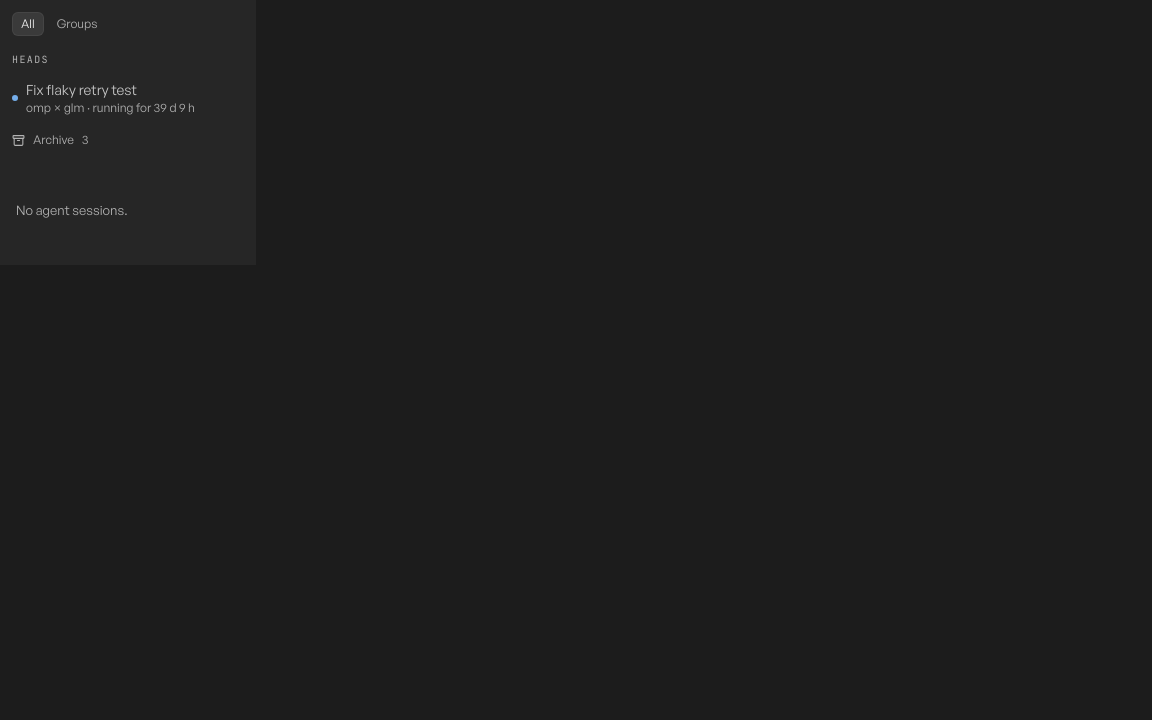
Test case: SessionSidebar — Heads-Sektion › shows an Archive row with the count only when archivedCount > 0, opens the sheet
Click the button with test id "heads-archive-button" at (128, 140), box [0,124,256,156]
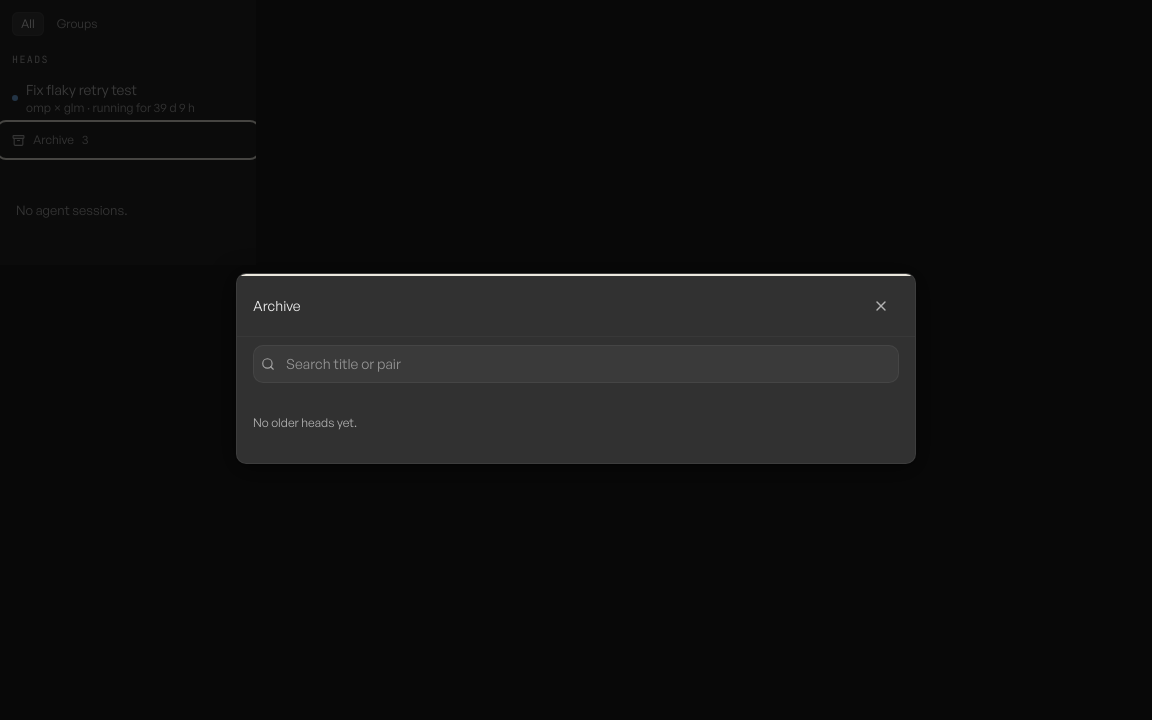
Check: the element with test id "head-archive-sheet" is shown, box [237,276,915,462]
